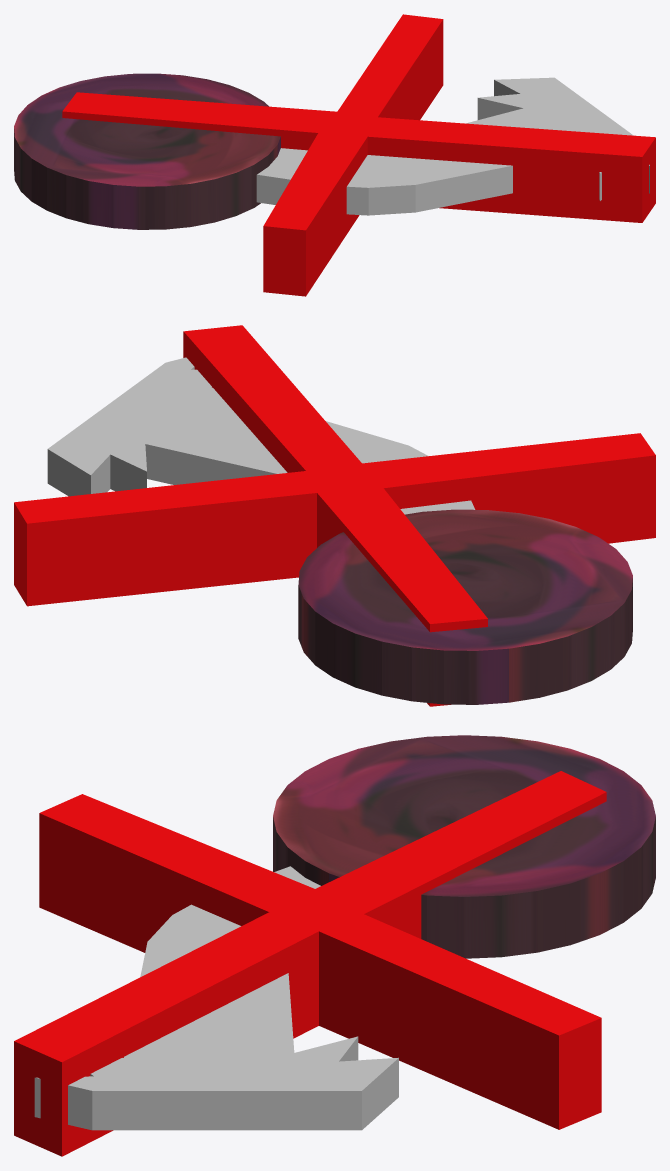
Rendered from NoJump.fbx.
3 views of the same model, one above another, from view 1: azimuth 30°, elevation 25°; view 2: azimuth 150°, elevation 25°; view 3: azimuth 270°, elevation 25° (orthographic). The views are drawn at different scales.
Parts seen in each view (by area): view 1: Plane.001, Circle, Plane; view 2: Plane.001, Circle, Plane; view 3: Plane.001, Circle, Plane.
Part boxes in pixels (x1,y1,x2,y2): Plane.001: [62, 14, 655, 296]; Circle: [14, 73, 280, 229]; Plane: [256, 77, 649, 215]; Plane.001: [14, 325, 655, 706]; Circle: [298, 509, 632, 704]; Plane: [47, 357, 475, 514]; Plane.001: [14, 771, 606, 1156]; Circle: [273, 735, 655, 958]; Plane: [34, 866, 398, 1130].
Size of the model in its own units: 114 by 14.79 by 91.16.
